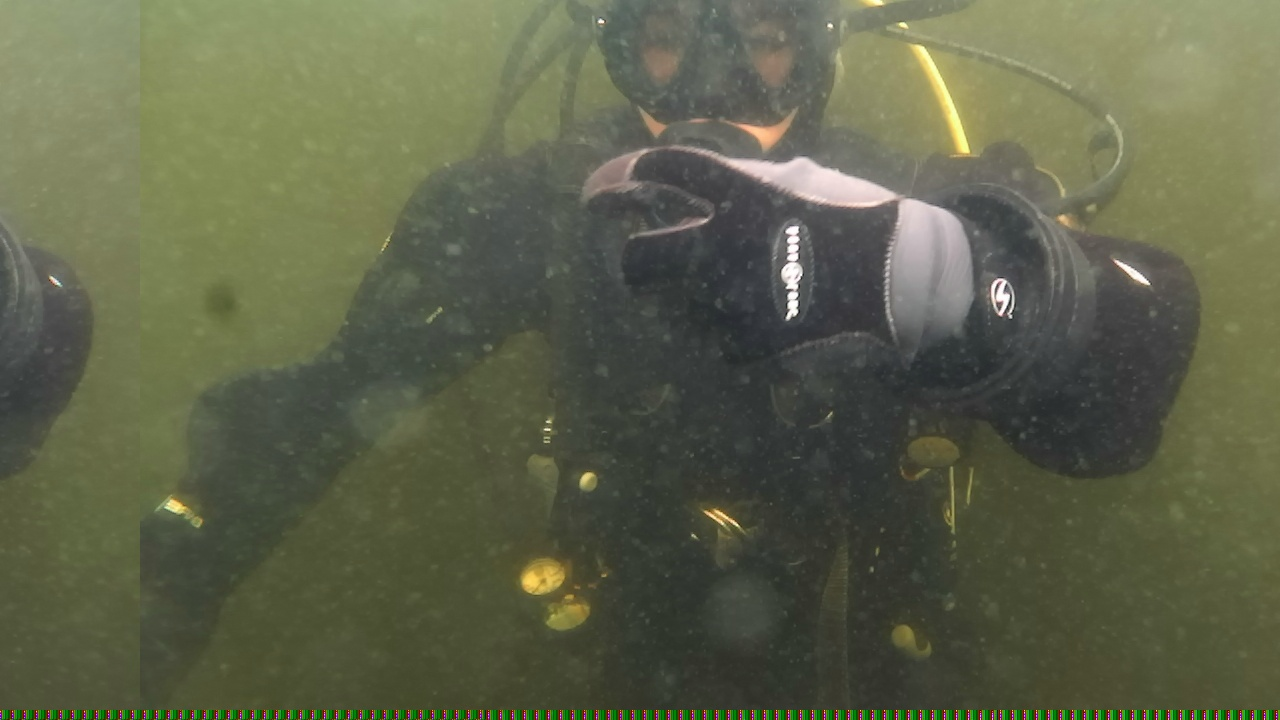Diver: (150, 4, 1214, 716)
Hand: (464, 114, 1036, 450), (94, 344, 332, 646)
Head: (512, 8, 910, 216)
